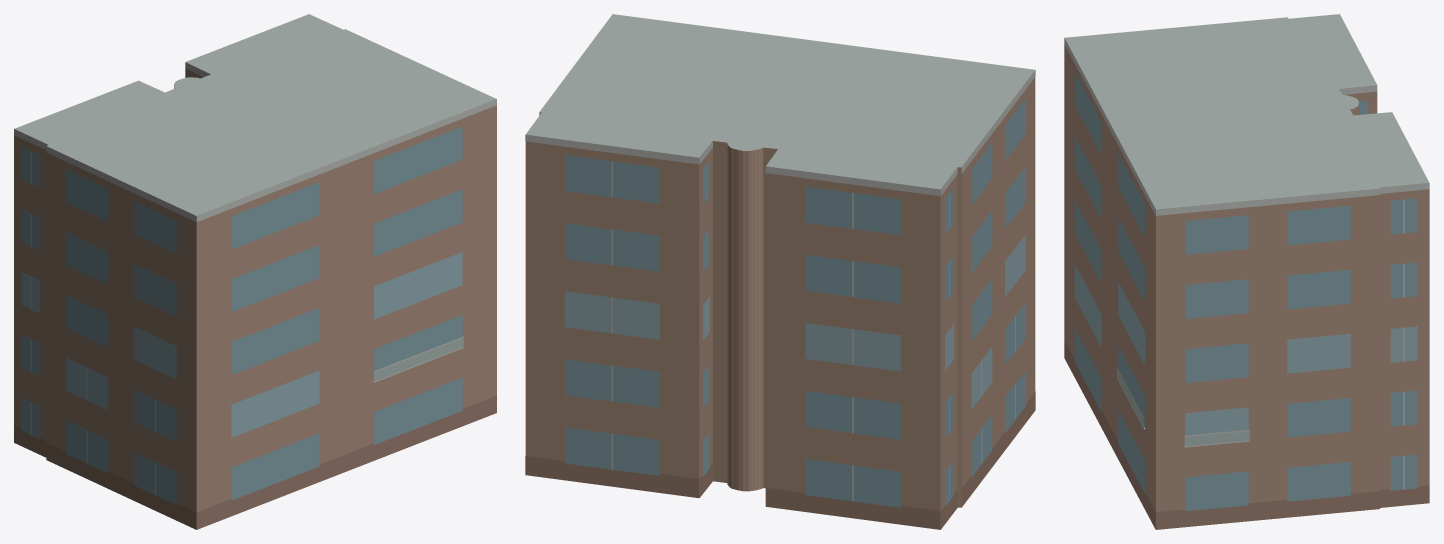
File: survey-upis-32803626.glb
The picture shows the model from 3 angles, left to right: view 1: azimuth 30°, elevation 25°; view 2: azimuth 150°, elevation 25°; view 3: azimuth 270°, elevation 25°; orthographic projection. The views are drawn at different scales.
Visible parts, largest first — view 1: survey-upis-32803626.tmp; view 2: survey-upis-32803626.tmp; view 3: survey-upis-32803626.tmp.
Part boxes in pixels (left/top/right/bottom): survey-upis-32803626.tmp: left=14, top=14, right=496, bottom=529; survey-upis-32803626.tmp: left=525, top=14, right=1035, bottom=529; survey-upis-32803626.tmp: left=1064, top=14, right=1429, bottom=529.
Size of the model in its own units: 15.98 by 12.2 by 12.61.
